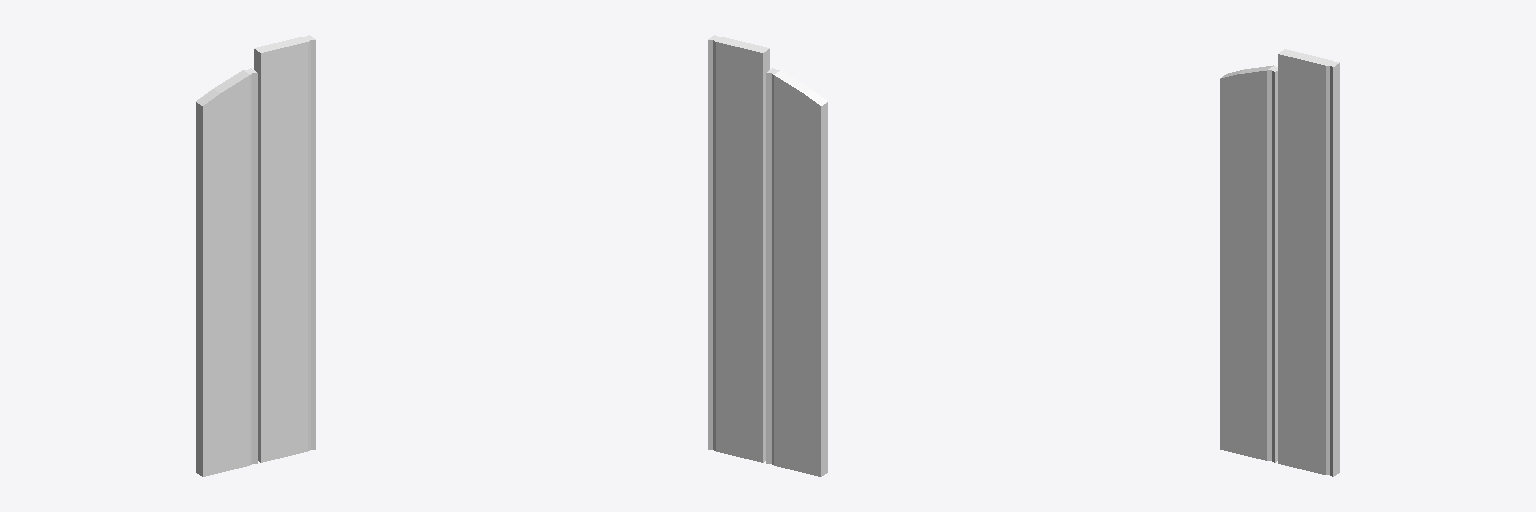
Rendered from InteriorInsulation.obj.
3 views of the same model, side by side, from view 1: azimuth 30°, elevation 25°; view 2: azimuth 150°, elevation 25°; view 3: azimuth 330°, elevation 25° (orthographic).
Parts seen in each view (by area): view 1: InteriorInsulation.obj; view 2: InteriorInsulation.obj; view 3: InteriorInsulation.obj.
Boxes of the visible parts, x1=… form: InteriorInsulation.obj: x1=196, y1=35, x2=315, y2=476; InteriorInsulation.obj: x1=708, y1=35, x2=827, y2=476; InteriorInsulation.obj: x1=1220, y1=49, x2=1339, y2=476.
Size of the model in its own units: 0.7927 by 2.73 by 0.0829.